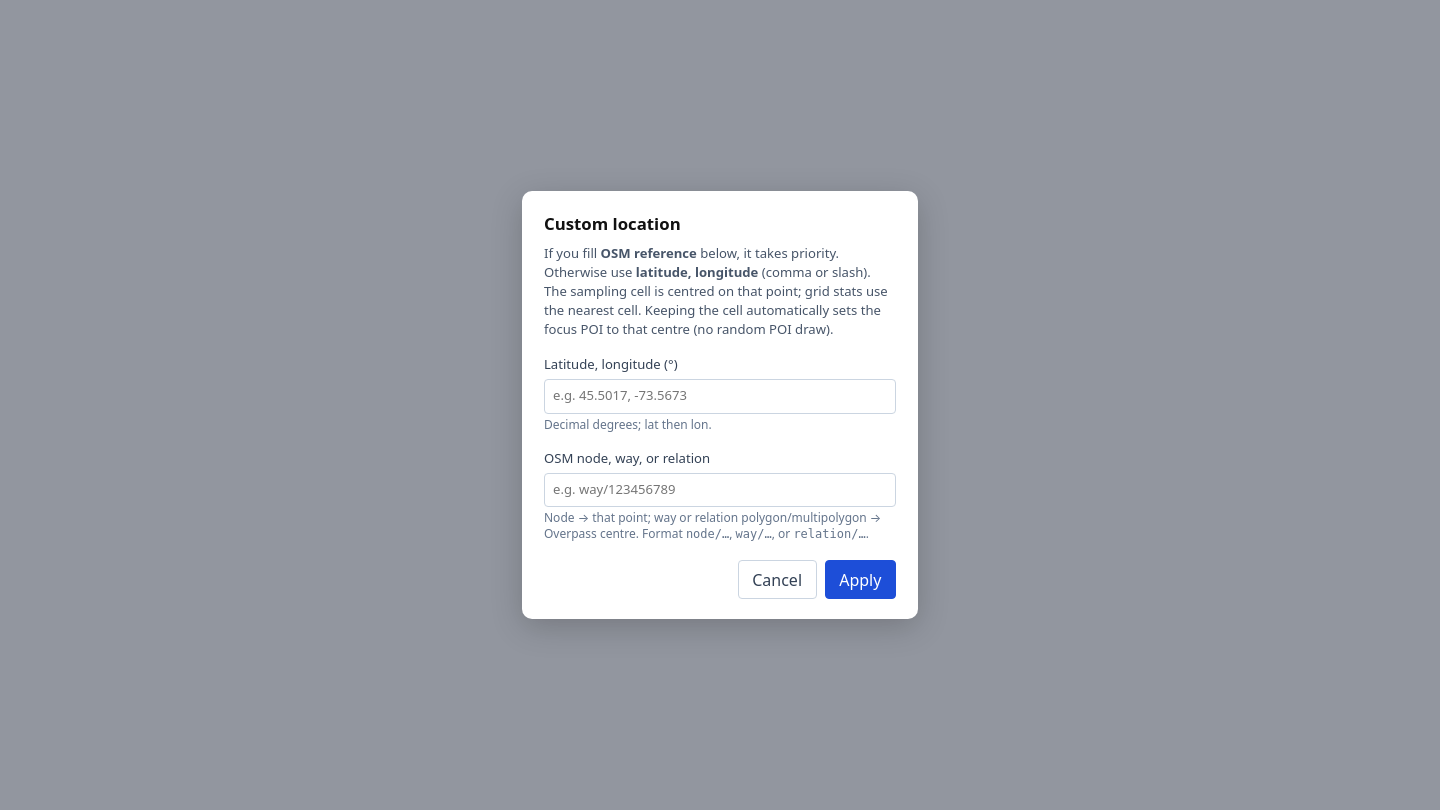
Test case: <CustomCentroidModal /> › shows validation error for non-numeric input
Type "x, 1" into the field labelled "Latitude, longitude (°)" at (720, 396), box [544,379,896,414]
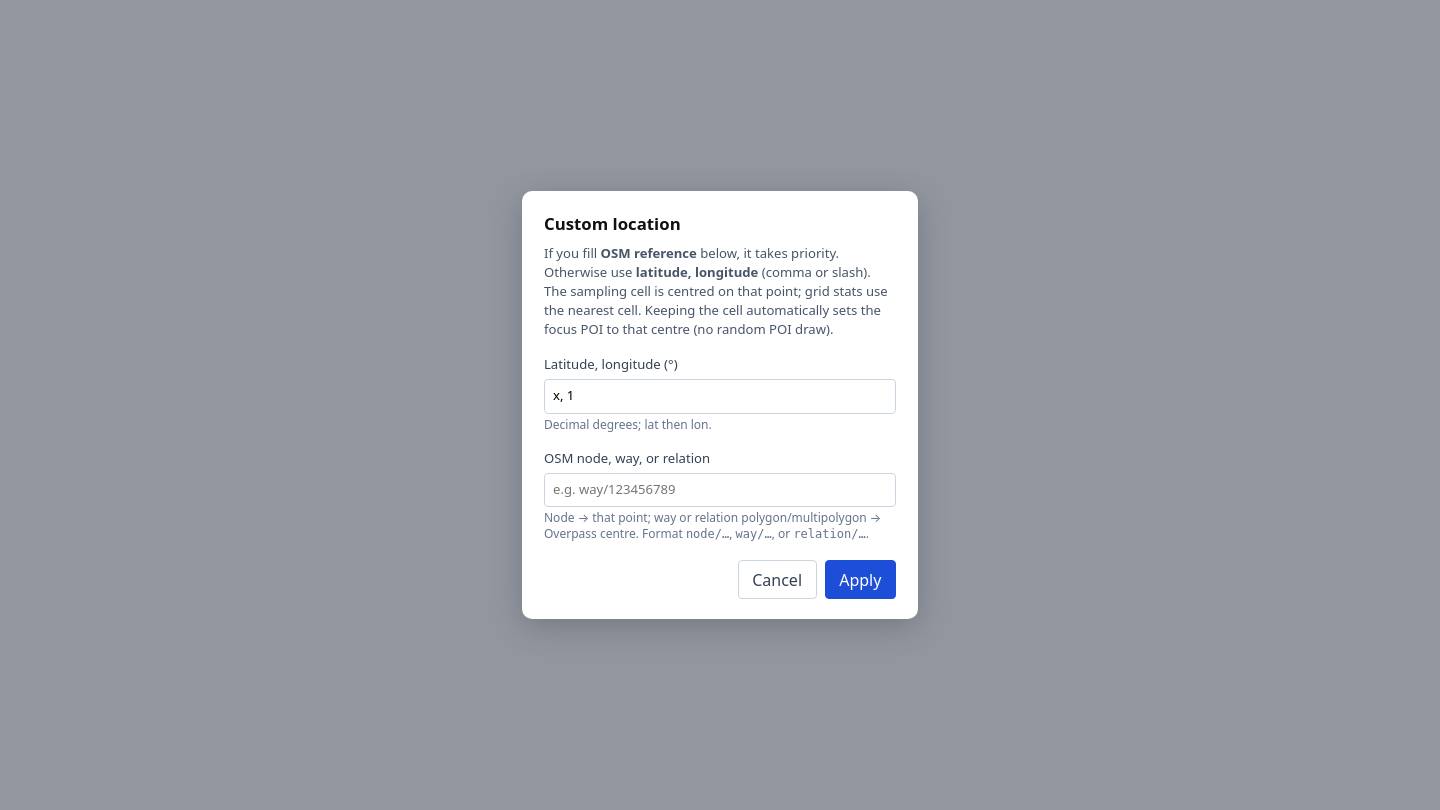
Click the button "Apply" at (860, 580), box [825,560,896,599]
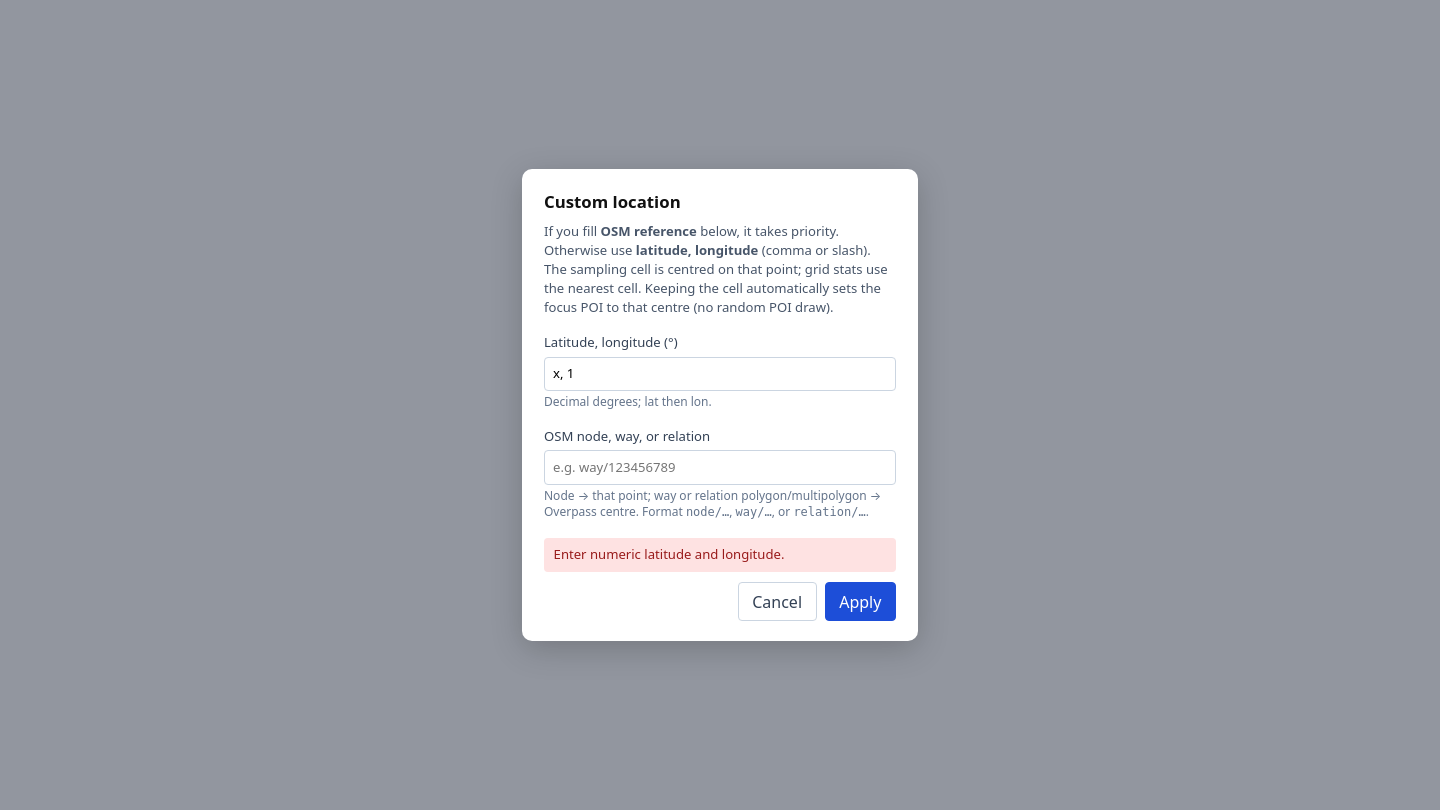
Check: the text "Enter numeric latitude and longitude." is shown, box [544,538,896,572]
